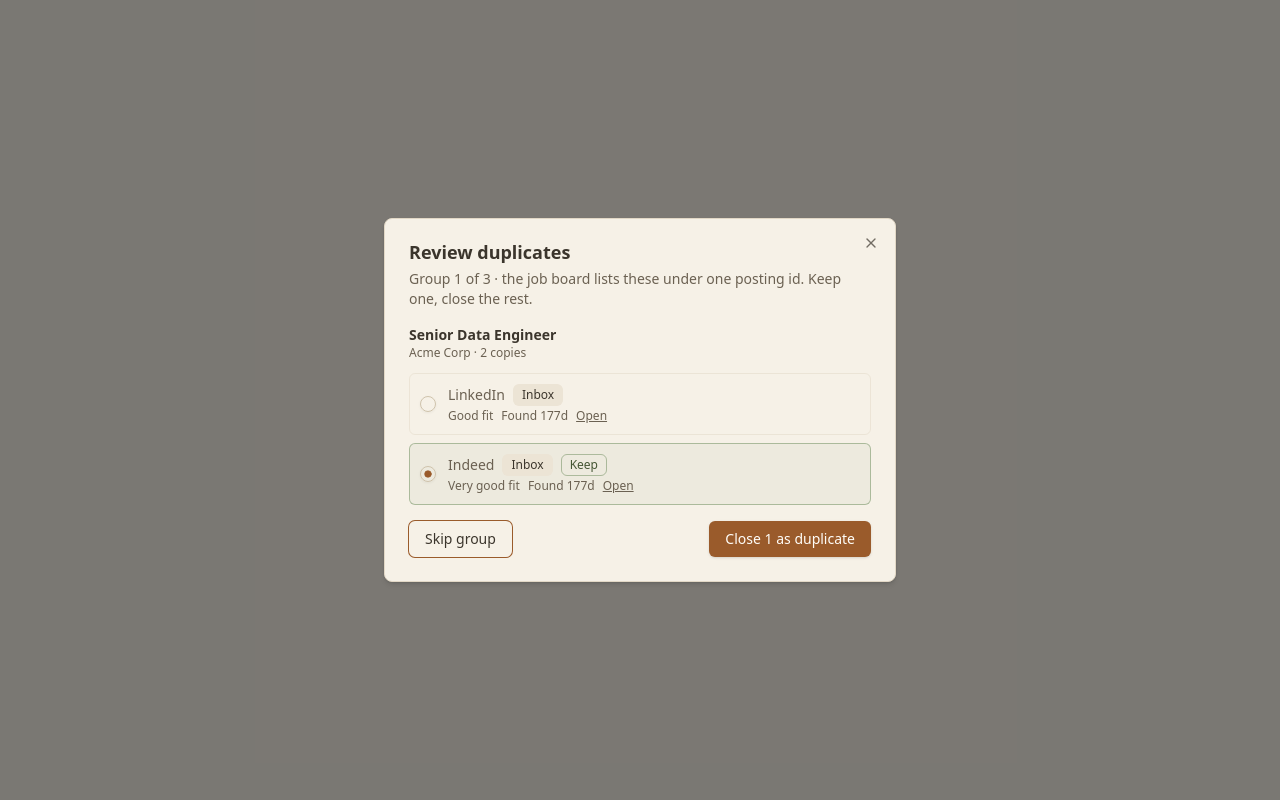
Test: DuplicateReviewModal › advances to a review-only group after closing the one before it
# Closing the current group lands on the review-only one, not past it.
Step 1. Click the button "Close 1 as duplicate" → (790, 539), box x1=709 y1=521 x2=871 y2=557
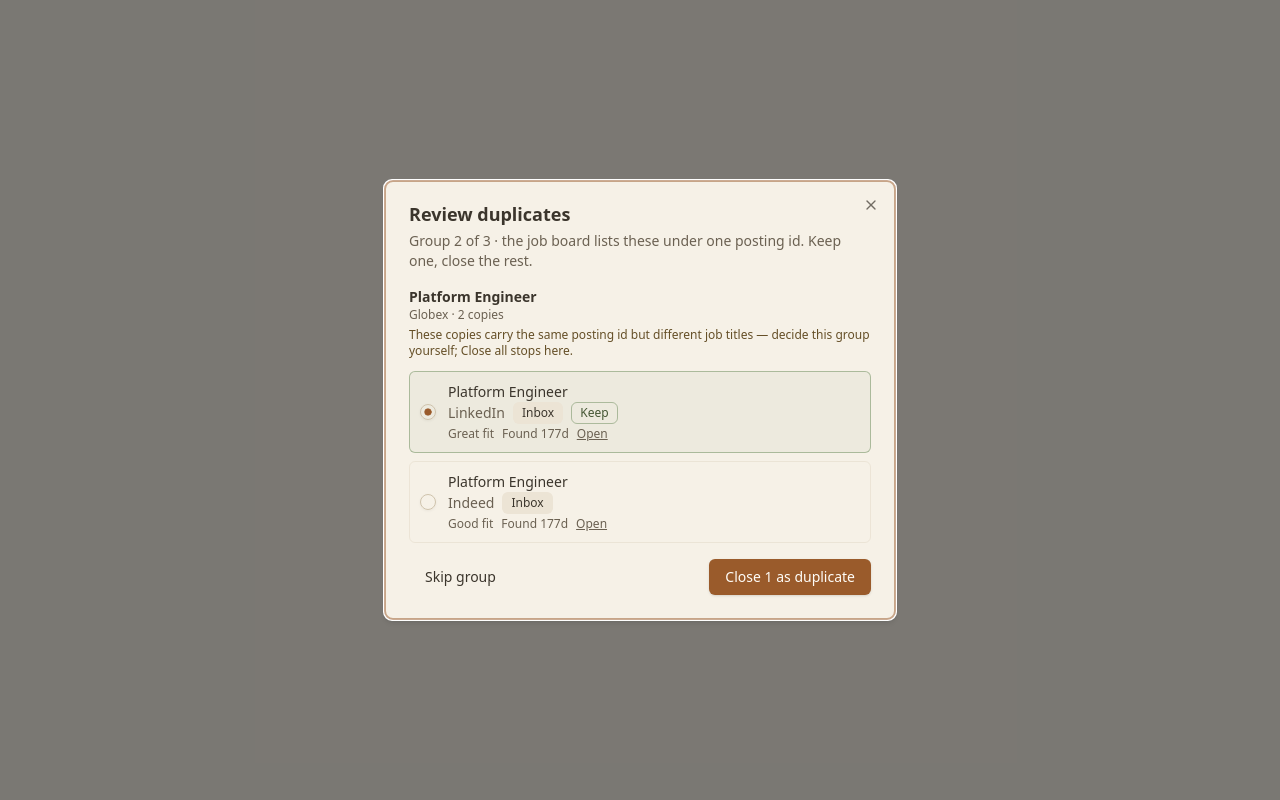
Now the text "different job titles" is shown, box x1=409 y1=326 x2=870 y2=359
